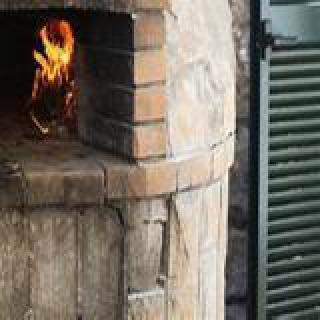fire: (30, 12, 76, 116)
